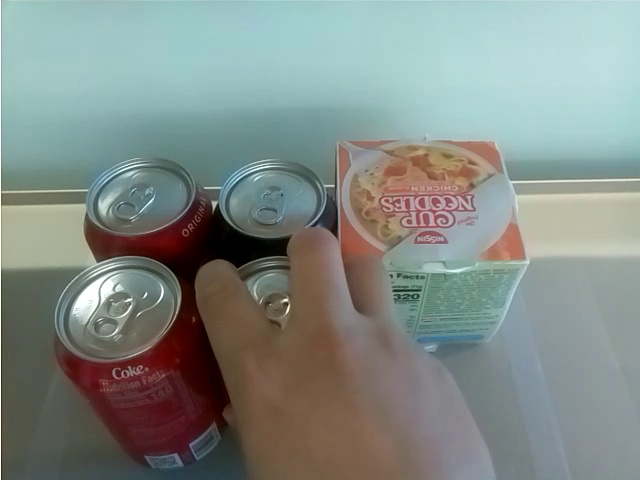cocacola: (51, 258, 226, 473)
cocacola-shadow: (82, 159, 213, 253)
cocacola-zero-shadow: (214, 151, 333, 256)
hand: (194, 231, 500, 478)
noodles-shadow: (339, 136, 536, 268)
